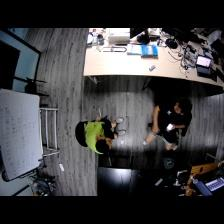normal: (145, 99, 196, 151), (82, 112, 128, 152)
